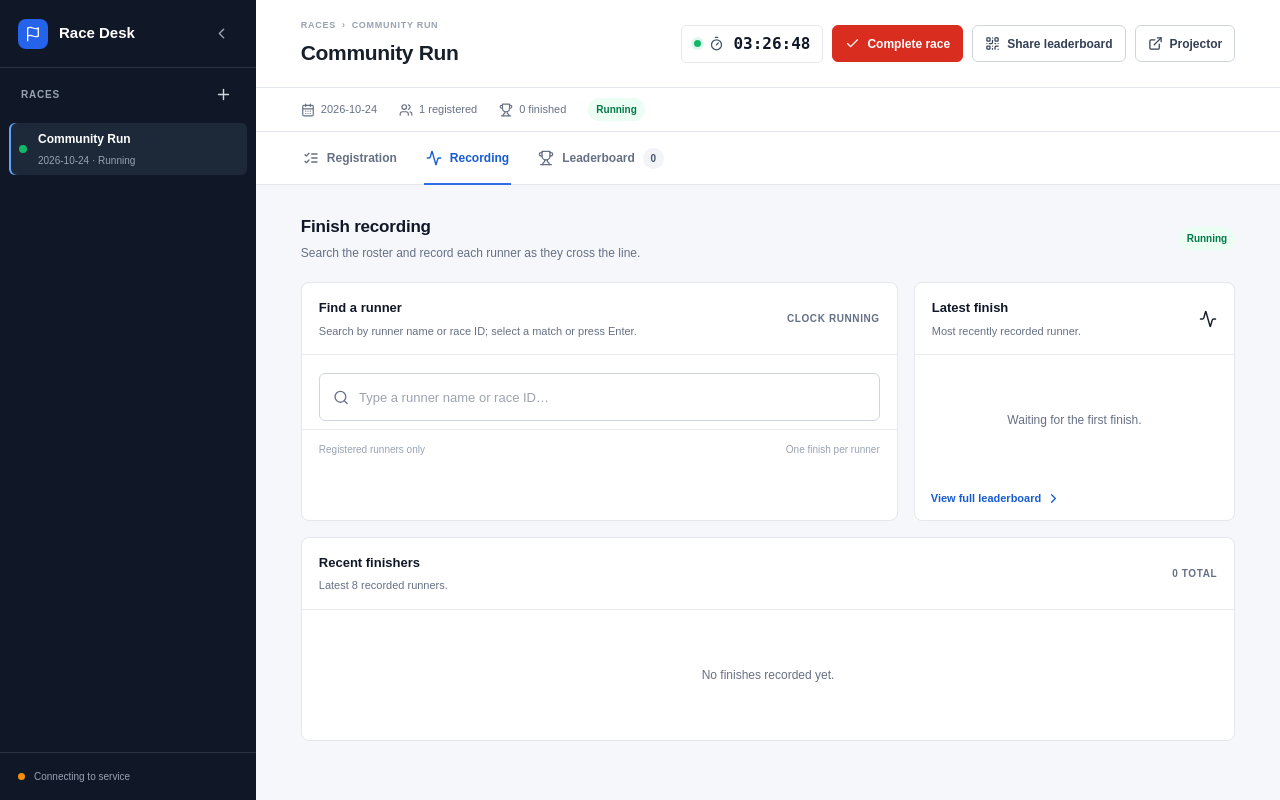
Test: race routes and workflows › records the top autocomplete result when Enter is pressed
Step 1. Type "Alex" into the field with placeholder "Type a runner name or race ID…" → (612, 397), box [359,374,866,420]
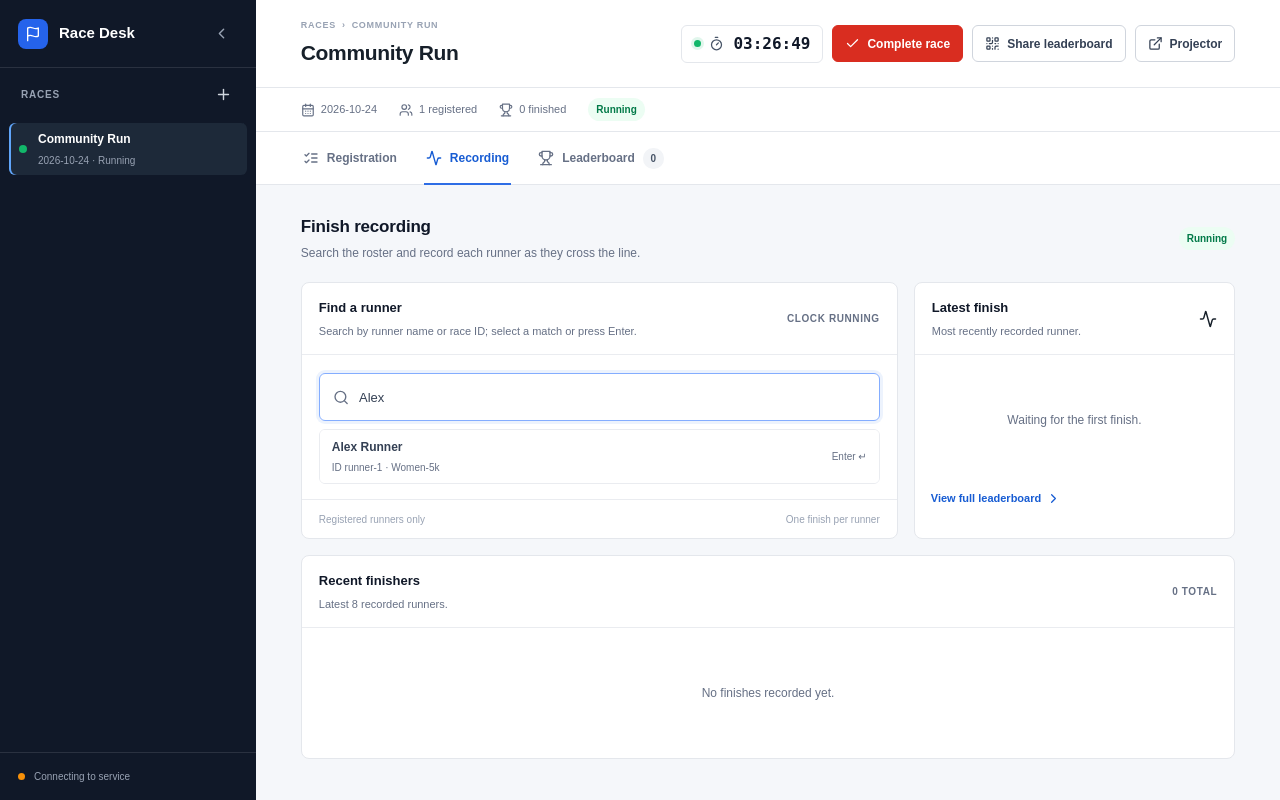
Check: the text "Alex Runner" is shown, box [332,440,402,454]
Step 2. Press Enter
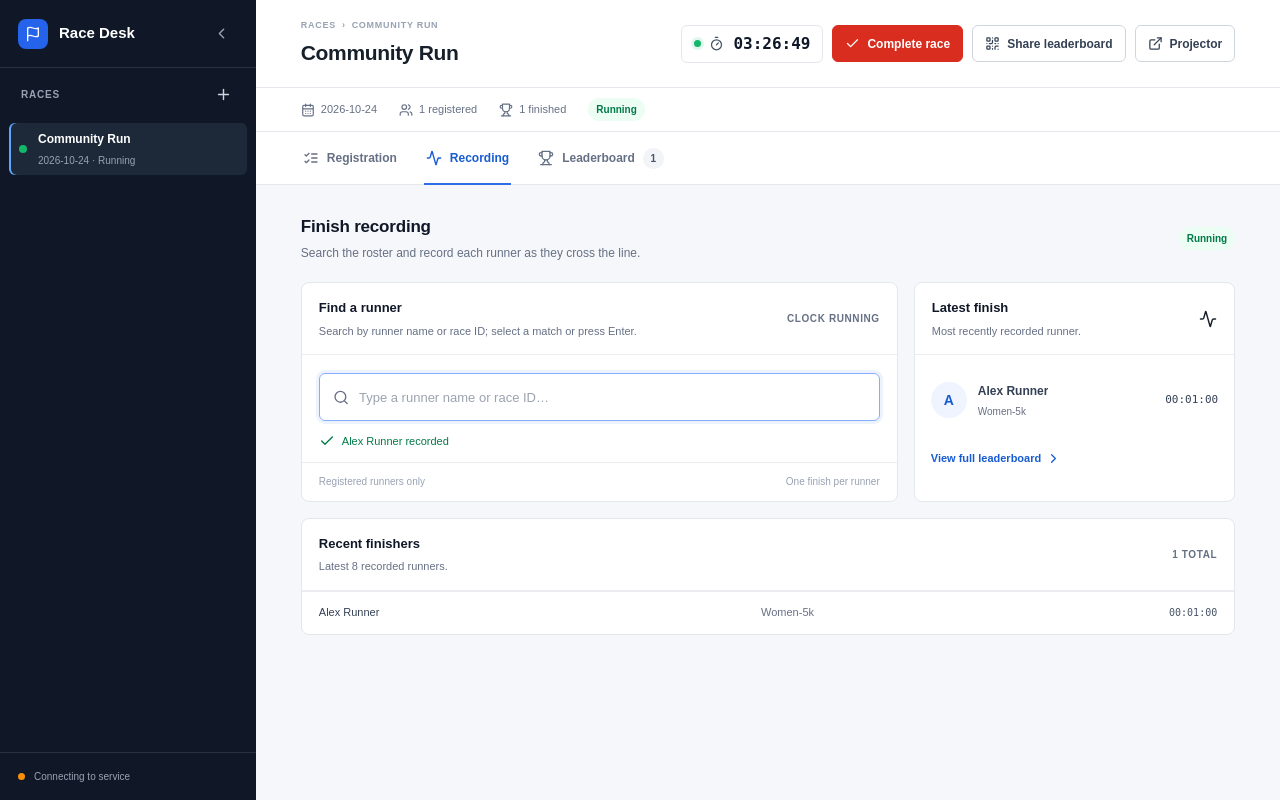
Check: the message reads "Alex Runner recorded", box [342,435,449,447]
